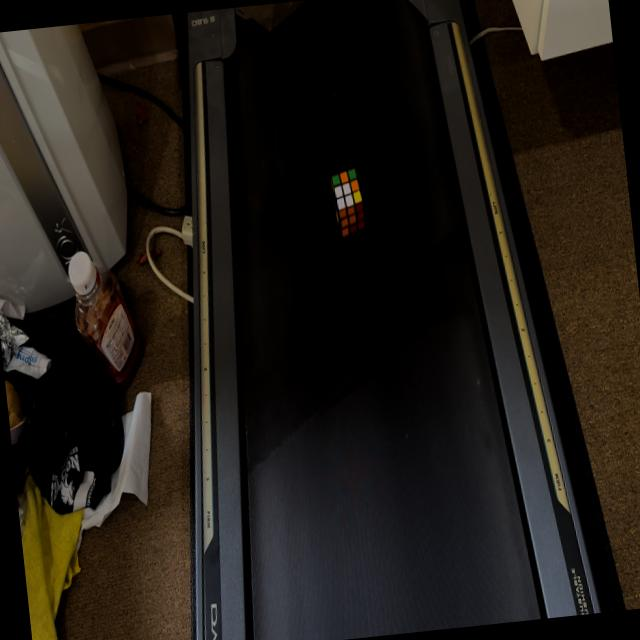Trash: (325, 162, 370, 242)
